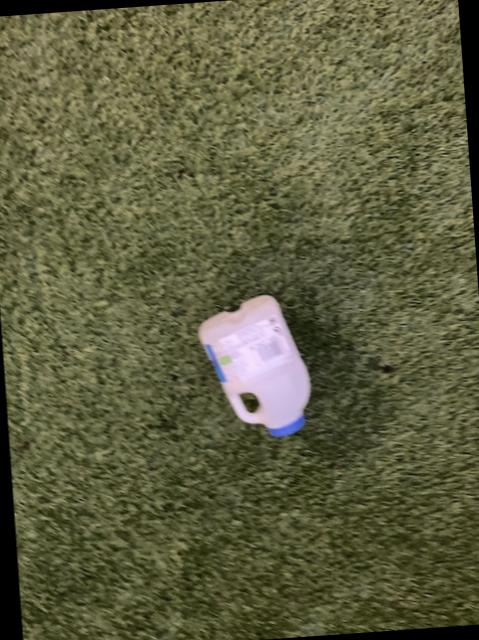plastic: (196, 297, 307, 437)
